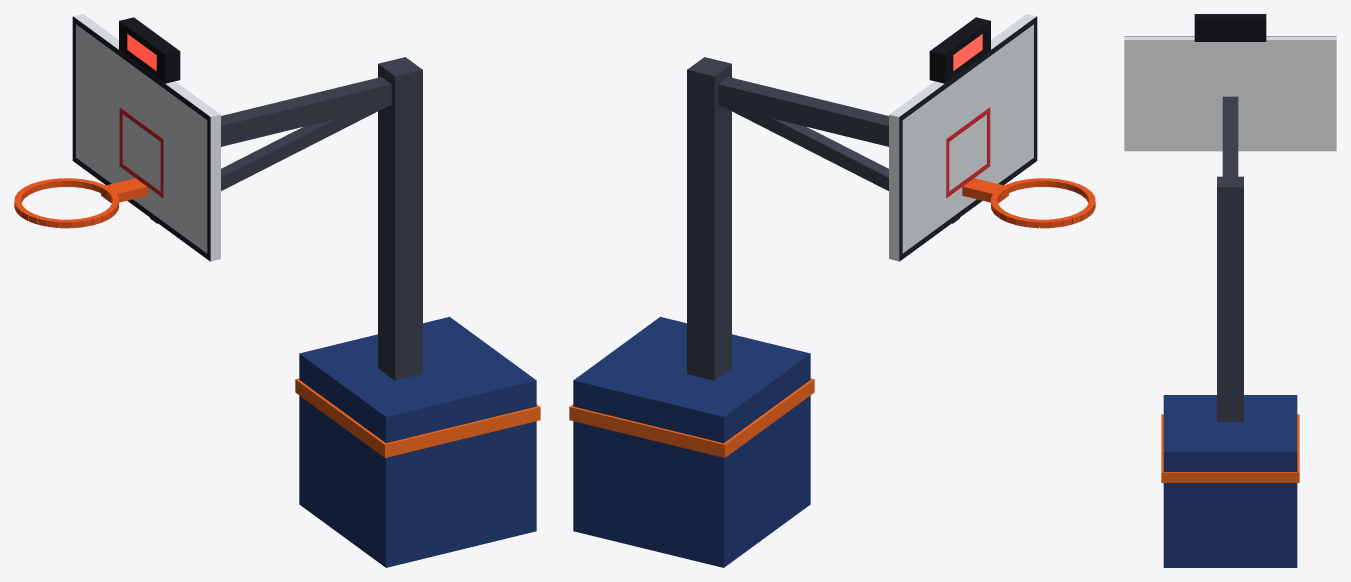
The model's file is hoop.glb.
3 renders of one model, left to right at view 1: azimuth 30°, elevation 25°; view 2: azimuth 150°, elevation 25°; view 3: azimuth 270°, elevation 25°, orthographic. The views are drawn at different scales.
Parts seen in each view (by area): view 1: jam_hoop_body; view 2: jam_hoop_body; view 3: jam_hoop_body.
Boxes of the visible parts, x1=… form: jam_hoop_body: x1=14, y1=14, x2=540, y2=567; jam_hoop_body: x1=569, y1=14, x2=1095, y2=567; jam_hoop_body: x1=1124, y1=14, x2=1336, y2=567.
Bounding box in the file's own units: 3.78 × 4.17 × 1.9.
Materials: 1 (1 with a texture image).
